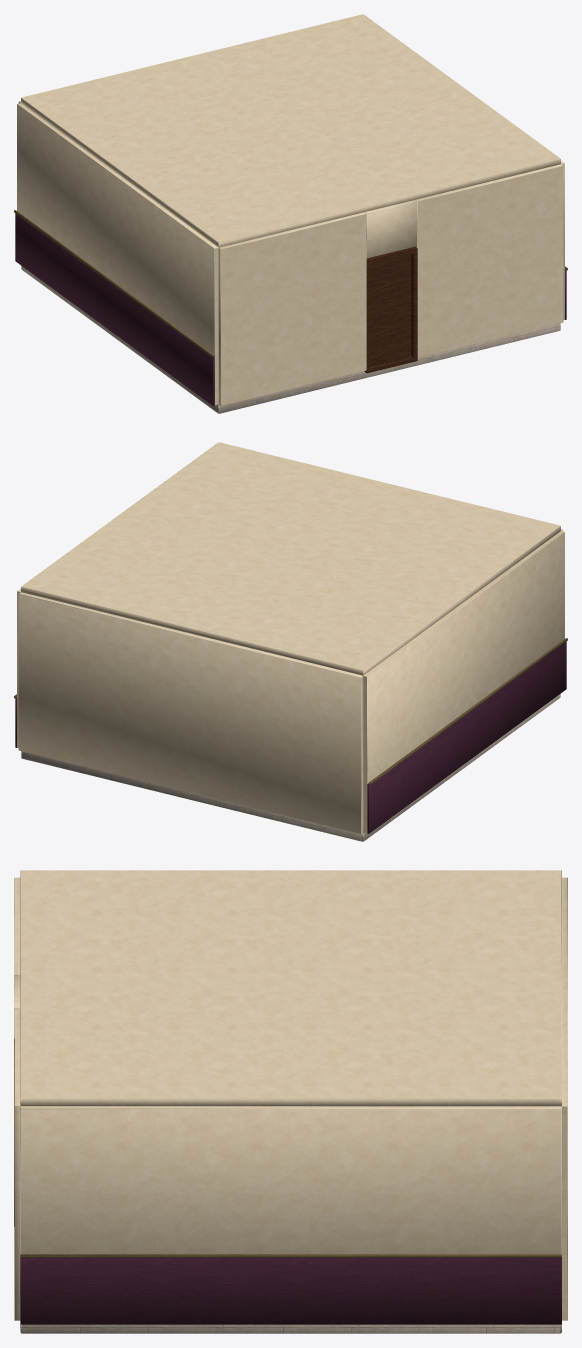
Rendered from explore3d__cold_store.glb.
3 views of the same model, one above another, from view 1: azimuth 30°, elevation 25°; view 2: azimuth 150°, elevation 25°; view 3: azimuth 270°, elevation 25° (orthographic). The views are drawn at different scales.
Parts seen in each view (by area): view 1: Rebuilt_cold_store; view 2: Rebuilt_cold_store; view 3: Rebuilt_cold_store.
Part boxes in pixels (bbox=[...]): Rebuilt_cold_store: bbox=[14, 14, 567, 413]; Rebuilt_cold_store: bbox=[14, 442, 567, 841]; Rebuilt_cold_store: bbox=[14, 870, 567, 1333].
Size of the model in its own units: 8.32 by 3.84 by 8.19.
Materials: 14 (13 with a texture image).
